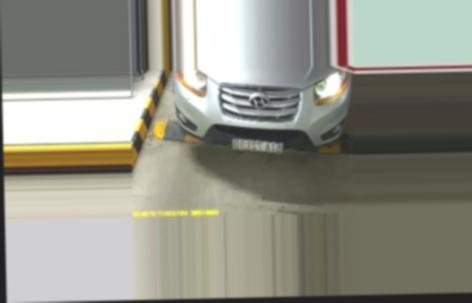License_Plate: (231, 136, 288, 155)
